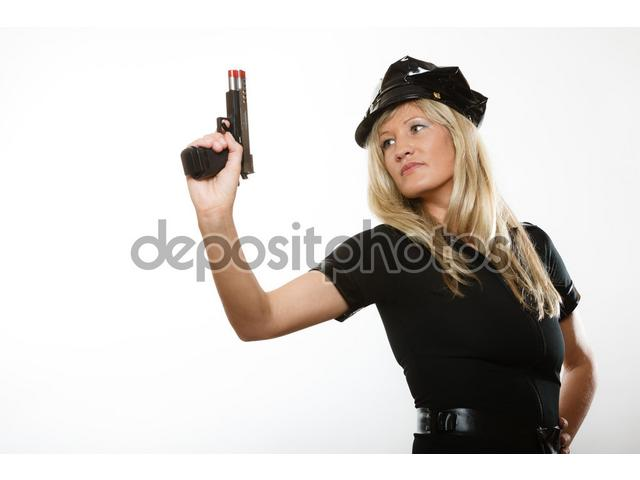pistol: (181, 64, 260, 182)
